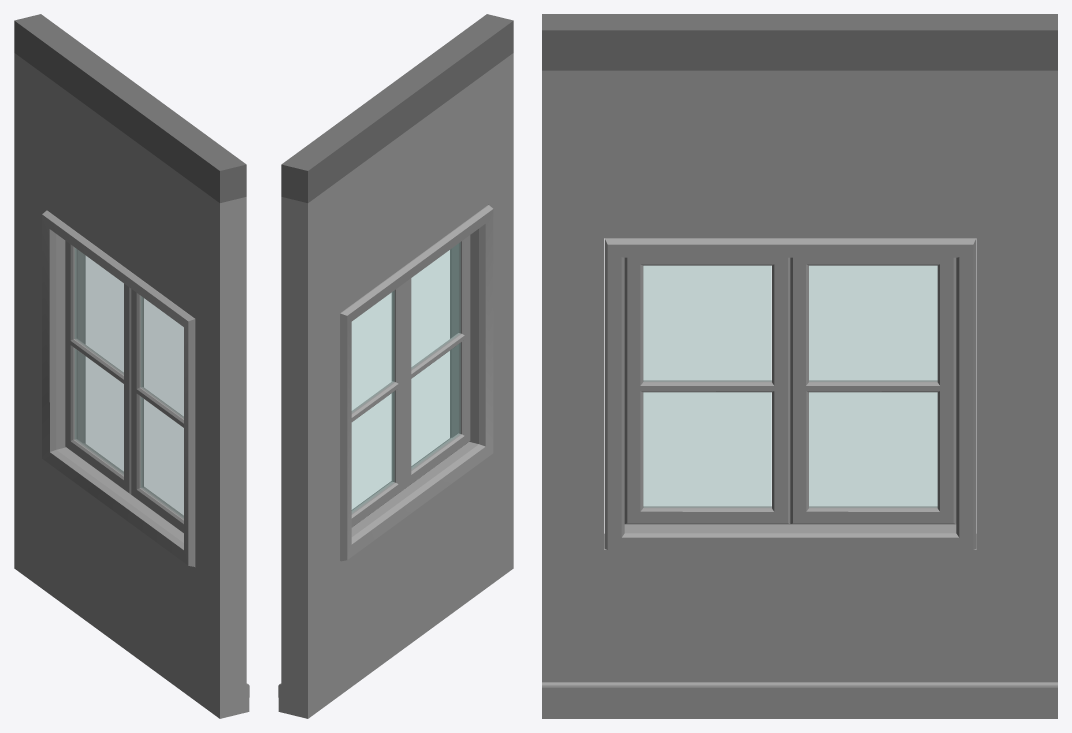
The model's file is fbx_Modular_Wall_Window_2m.fbx.
3 renders of one model, left to right at view 1: azimuth 30°, elevation 25°; view 2: azimuth 150°, elevation 25°; view 3: azimuth 270°, elevation 25°, orthographic. The views are drawn at different scales.
Parts seen in each view (by area): view 1: pCube1105, pCube945, pCube939 (×2), pCube940 (×2), pCube942, pCube943; view 2: pCube1105, pCube945, pCube939 (×2), pCube940 (×2), pCube943, pCube942; view 3: pCube1105, pCube939 (×2), pCube940 (×2), pCube945, pCube942, pCube943.
Boxes of the visible parts, x1,y1,x2,y2 form: pCube1105: [14, 14, 249, 718]; pCube945: [42, 210, 195, 566]; pCube939 (×2): [75, 248, 183, 418]; pCube940 (×2): [75, 349, 183, 518]; pCube942: [65, 240, 131, 494]; pCube943: [131, 289, 183, 532]; pCube1105: [278, 14, 513, 718]; pCube945: [340, 205, 493, 561]; pCube939 (×2): [352, 242, 460, 412]; pCube940 (×2): [352, 343, 460, 513]; pCube943: [404, 235, 470, 489]; pCube942: [351, 283, 403, 527]; pCube1105: [542, 14, 1057, 718]; pCube939 (×2): [643, 266, 937, 381]; pCube940 (×2): [643, 392, 937, 507]; pCube945: [604, 238, 976, 549]; pCube942: [790, 257, 956, 524]; pCube943: [624, 257, 790, 524].
Bounding box in the file's own units: 0.2112 × 2.94 × 2.
